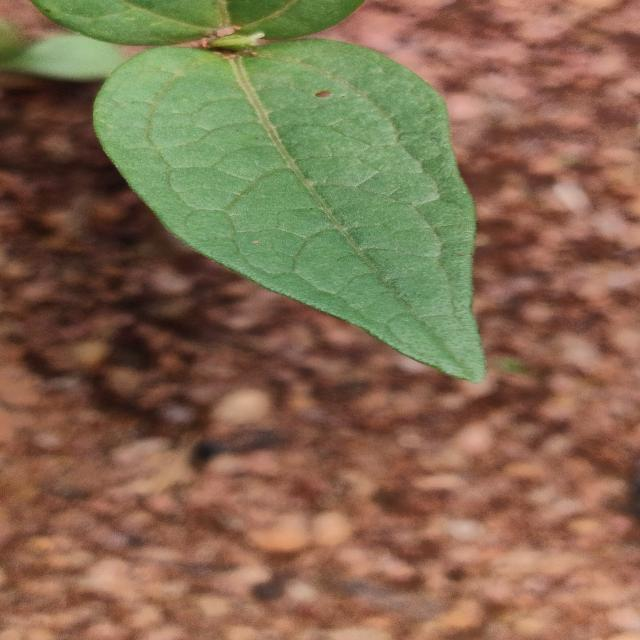Black gram_healthy: (97, 38, 480, 384)
